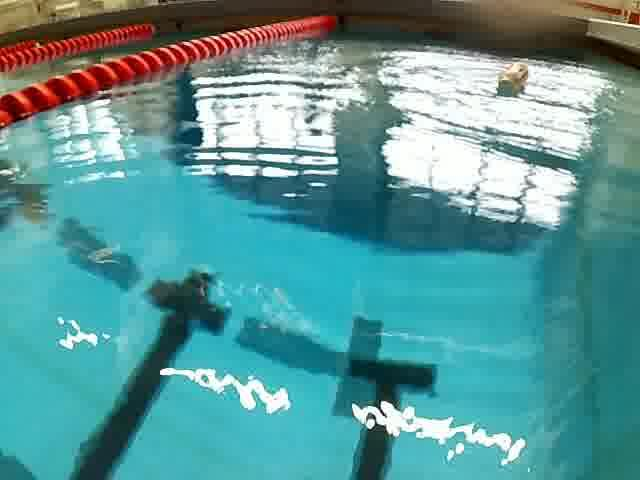Can: (496, 60, 533, 105)
